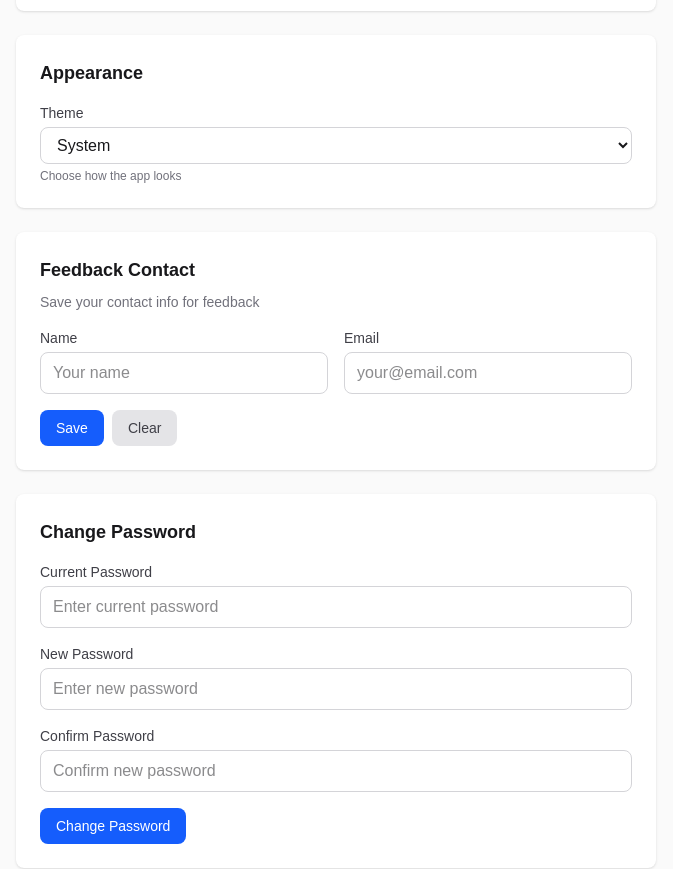
Scenario: SettingsPage › Change password section › shows error when new password is empty
(page scrolled)
Type "oldpass" into the password field labelled "Current Password" at (336, 607), box [40,586,632,628]
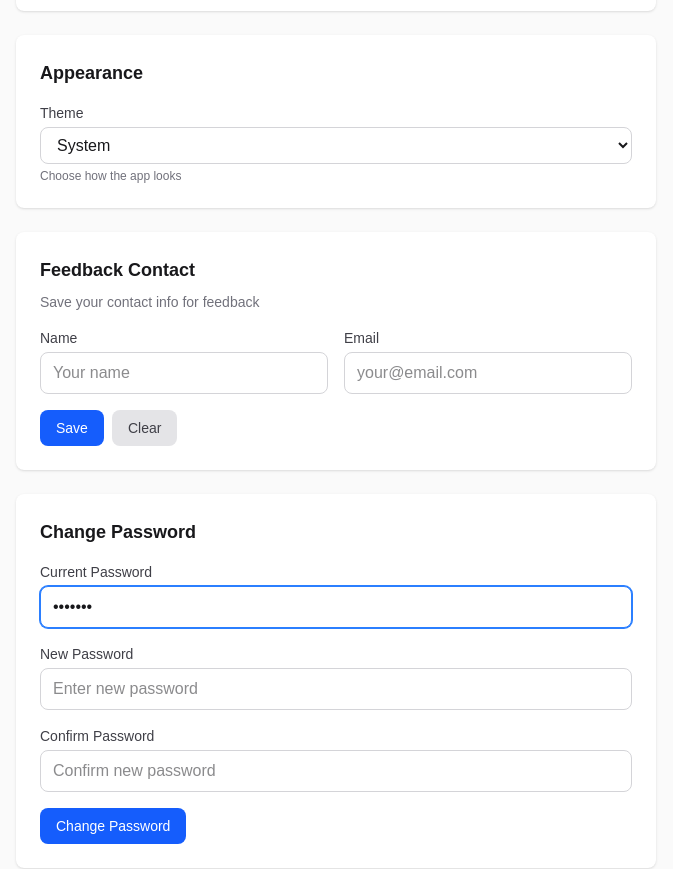
Click the button "Change Password" at (113, 826), box [40,808,186,844]
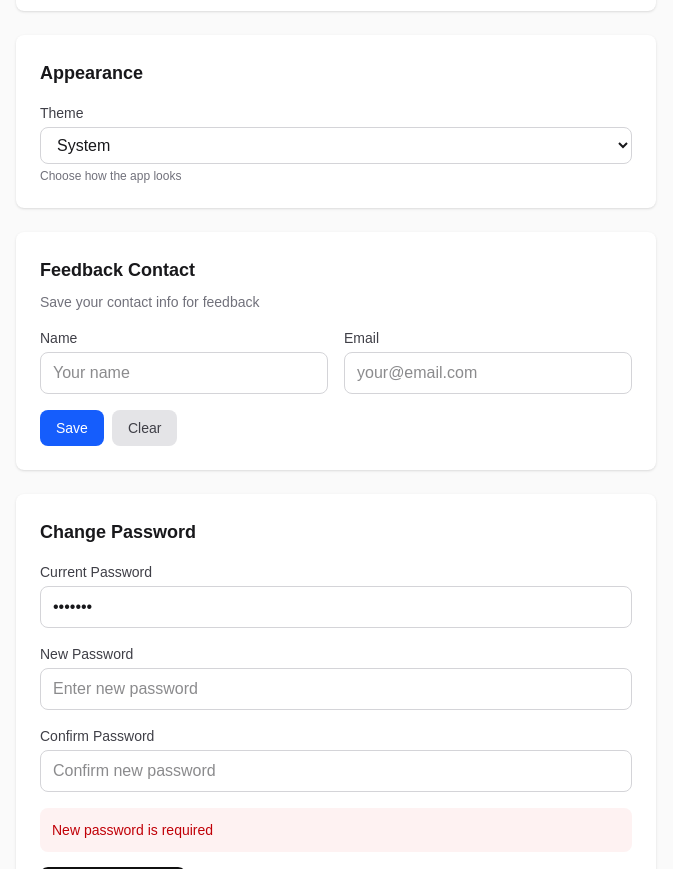
Expected: the text "New password is required" is shown, [40,808,632,852]
